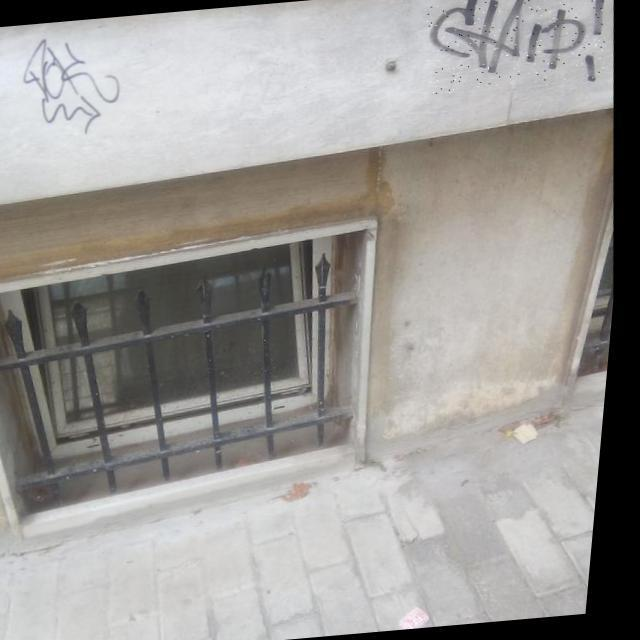-: (418, 0, 611, 95), (14, 27, 130, 137)
